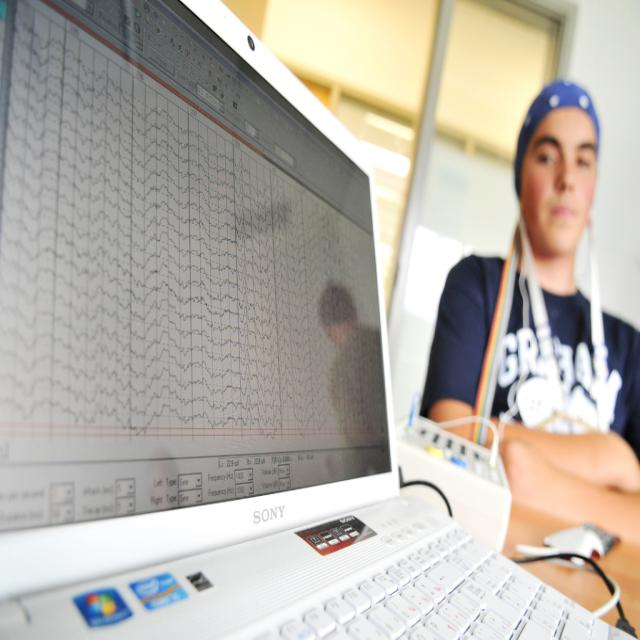no_helmet: (502, 150, 603, 226)
